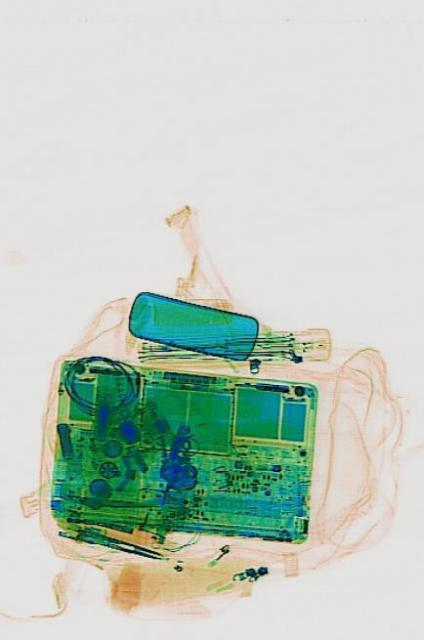Knife: (62, 518, 161, 564)
